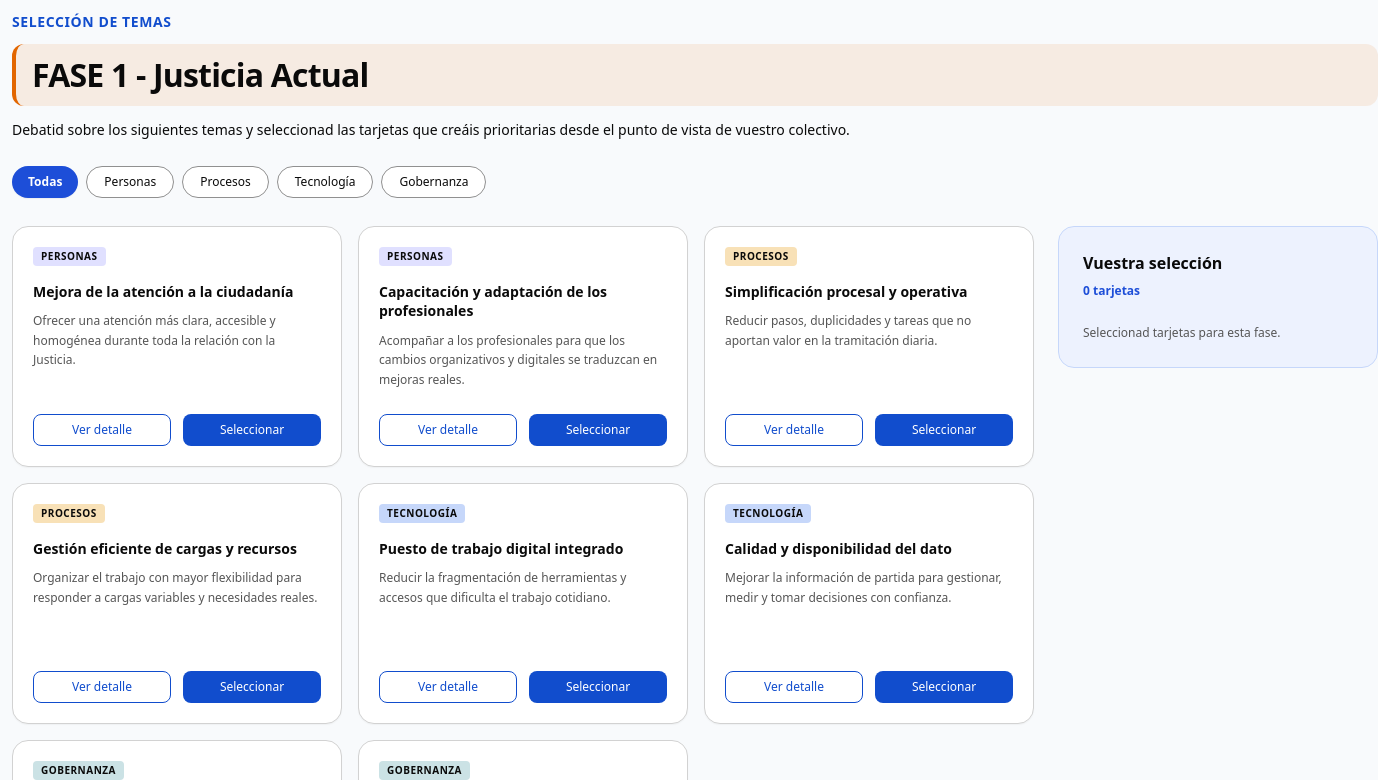
Test: componentes principales › permite al dinamizador seleccionar más de tres tarjetas
The width and height of the screenshot is (1378, 780).
Click the button "Seleccionar" below "Mejora de la atención a la ciudadanía".
click(252, 430)  # box 183,414 -> 321,446
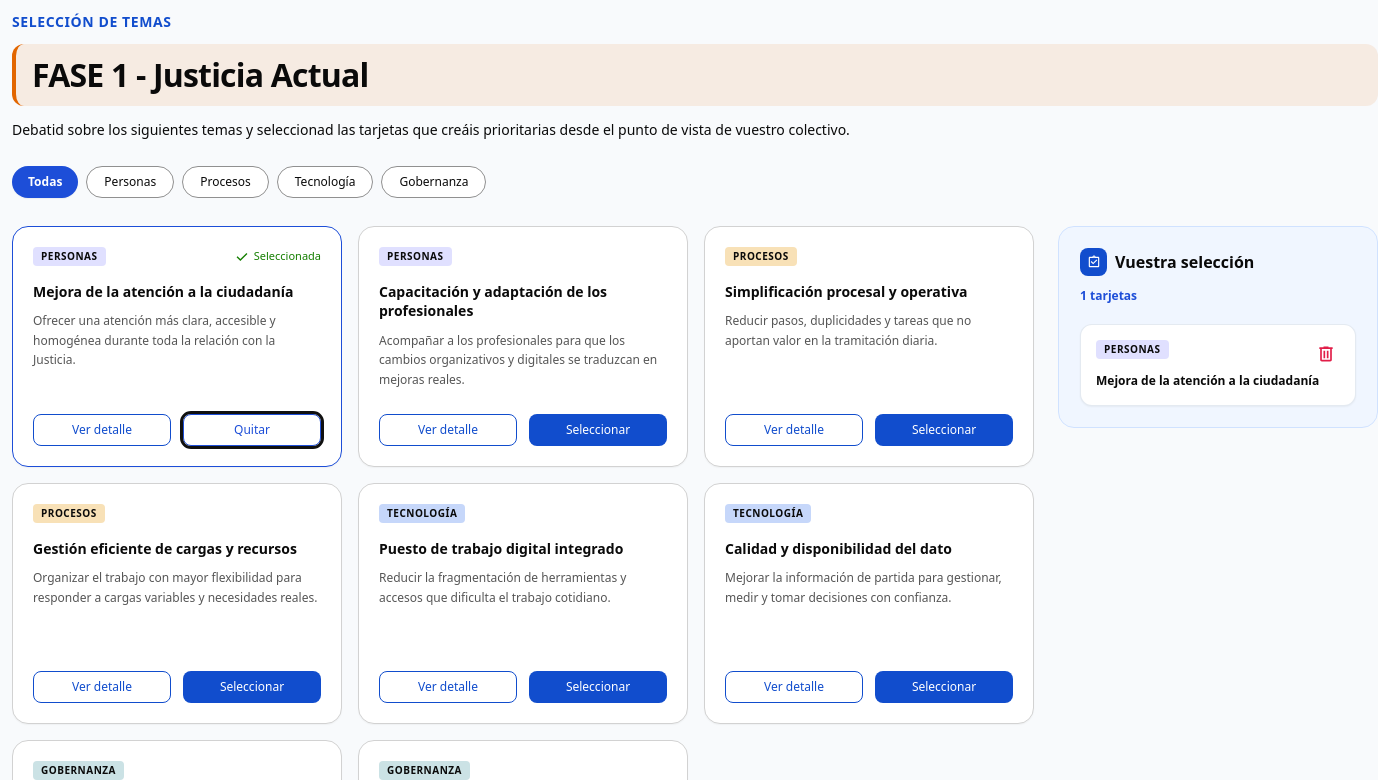
Click the 1st button "Seleccionar".
click(598, 430)  # box 529,414 -> 667,446
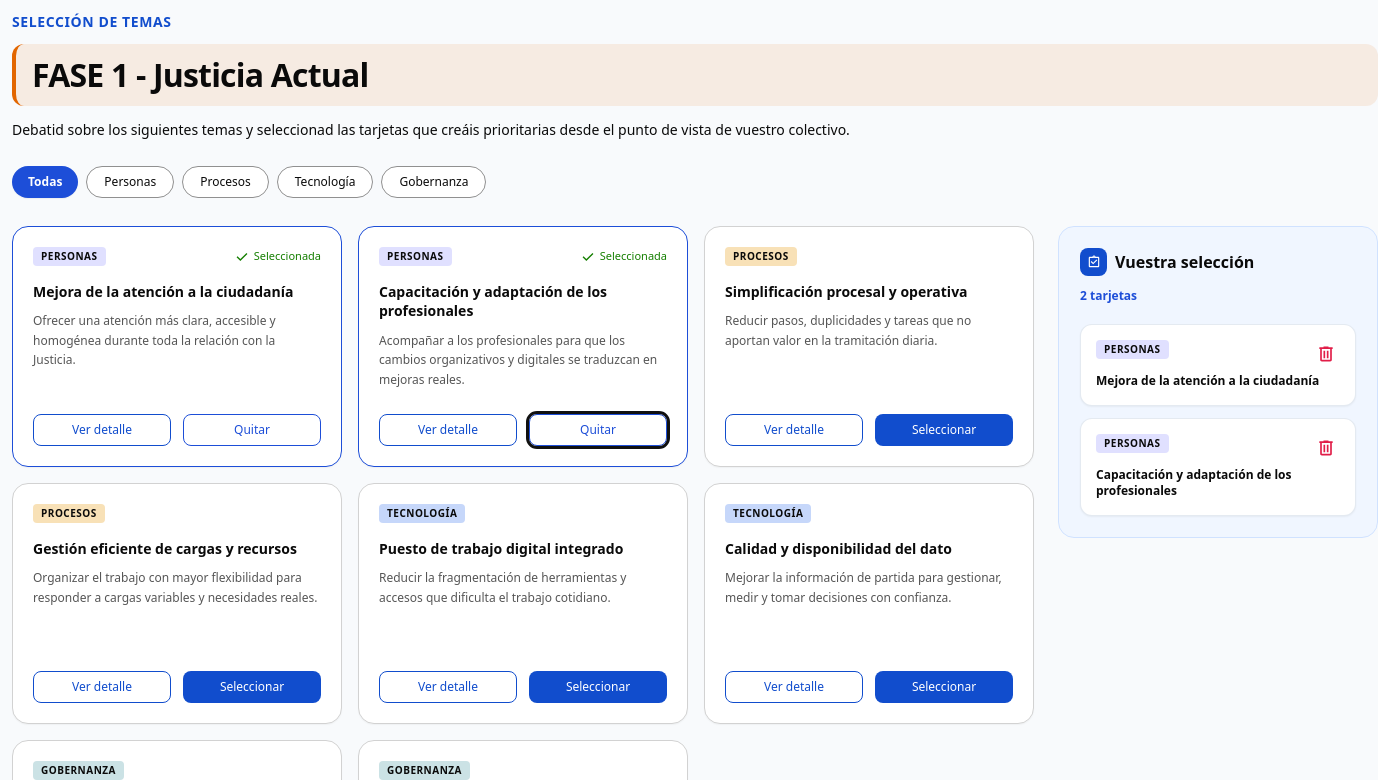
Click the button "Seleccionar" below "Simplificación procesal y operativa".
click(944, 430)  # box 875,414 -> 1013,446
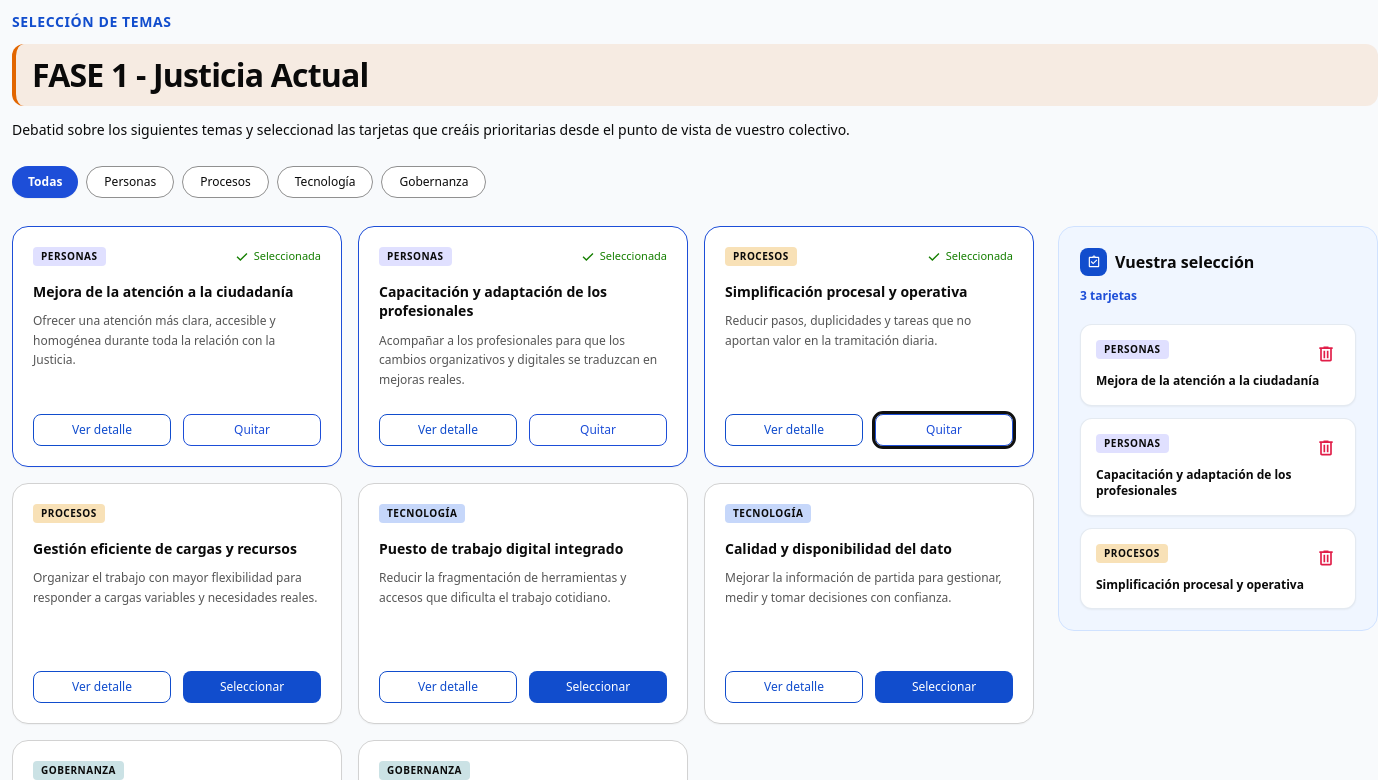
Click the button "Seleccionar" below "Gestión eficiente de cargas y recursos".
click(252, 687)  # box 183,671 -> 321,703
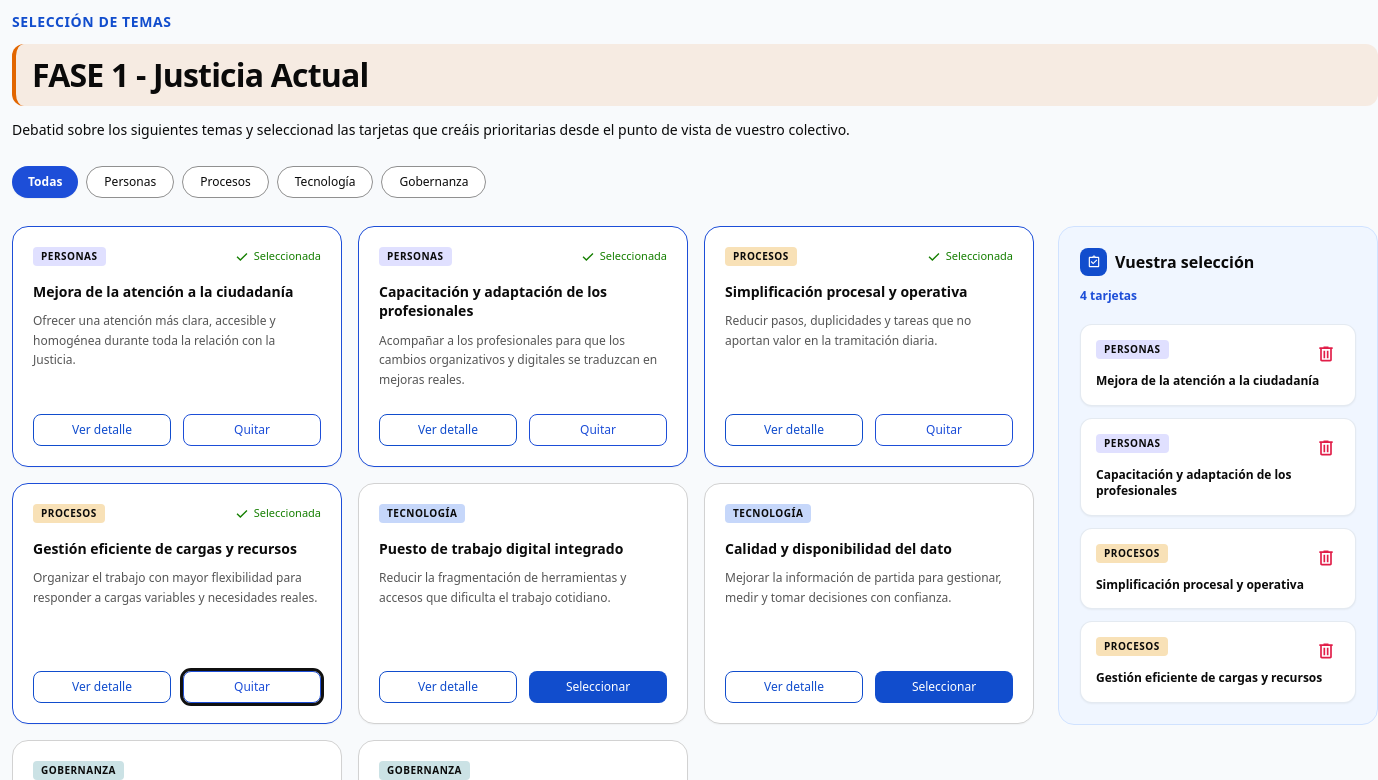
Check: the text "4 tarjetas" is shown, box 1080,287 -> 1137,304
